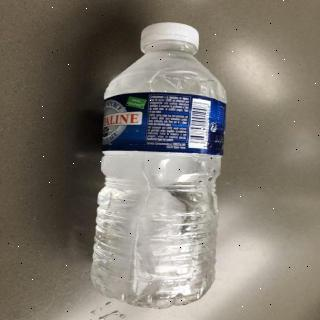Plastic-bottle: (83, 22, 227, 304)
